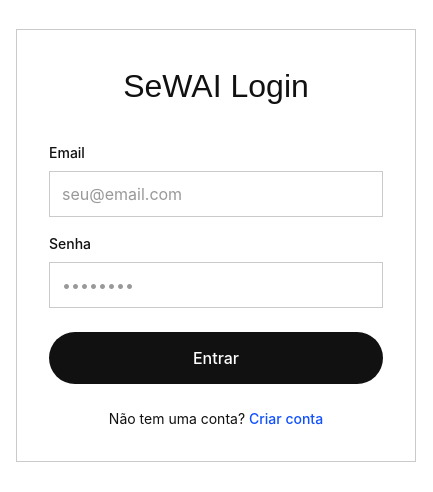
Scenario: LoginPage › shows error on submit with invalid email
This screenshot has width=433, height=492.
Type "invalid" into the field labelled "Email".
click(216, 194); type("invalid")  # box [49,170,383,216]
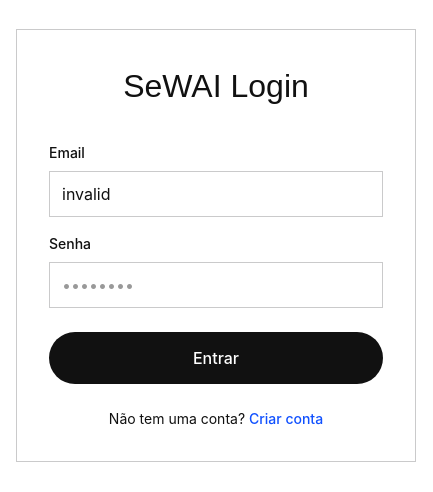
Type "pass" into the password field labelled "Senha".
click(216, 284); type("pass")  # box [49,262,383,308]
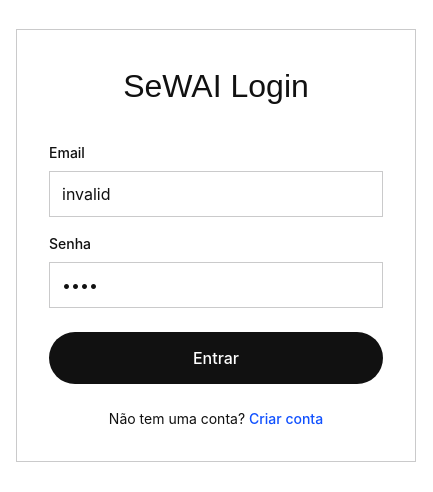
Click the button "Entrar".
click(216, 358)  # box [49,332,383,384]
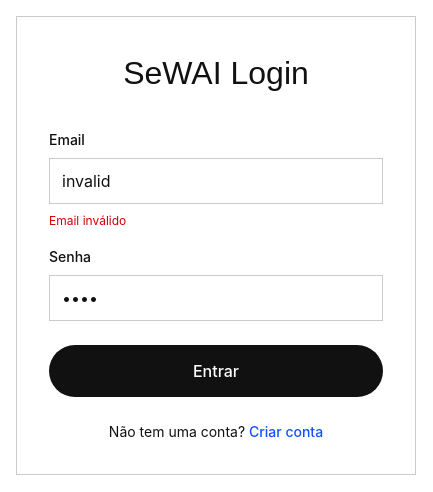
Check: the text "Email inválido" is shown, box [49,212,126,228]
